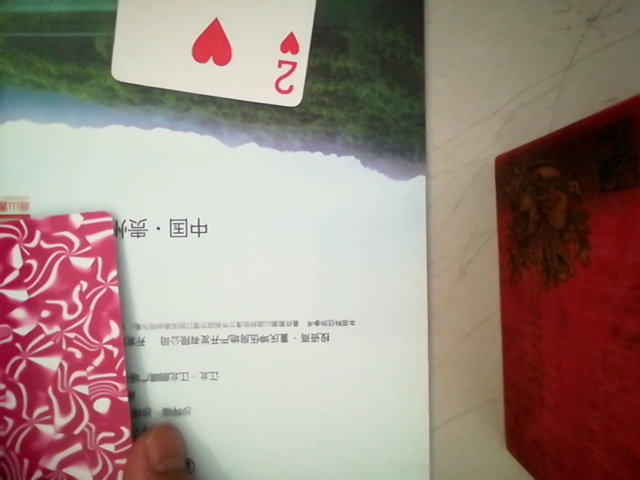hx 2: (104, 3, 323, 113)
